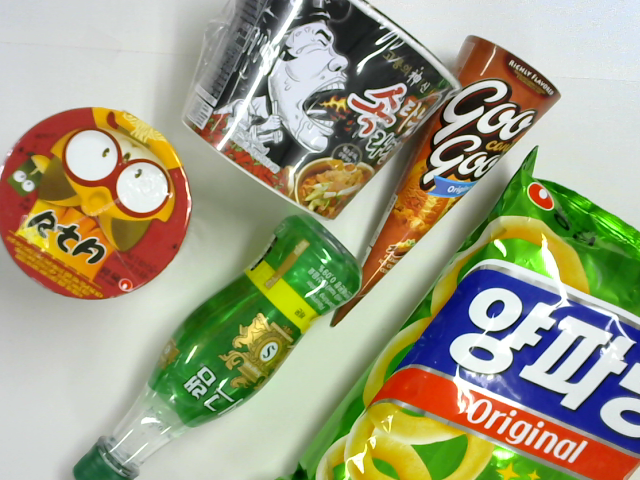GooGoo_Cone_CVS: (331, 34, 563, 329)
HeJangsock: (187, 1, 468, 218)
Oninon_Ring: (280, 150, 640, 480)
Raccoon: (1, 110, 194, 299)
Seagram_Lemon_Carbonated_Water: (72, 212, 364, 480)
